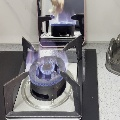fire: (26, 39, 68, 86)
